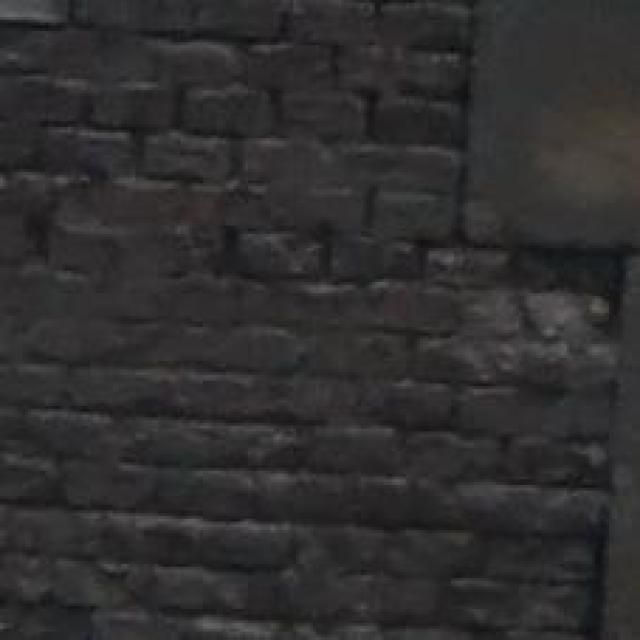Crack: (0, 0, 457, 369)
